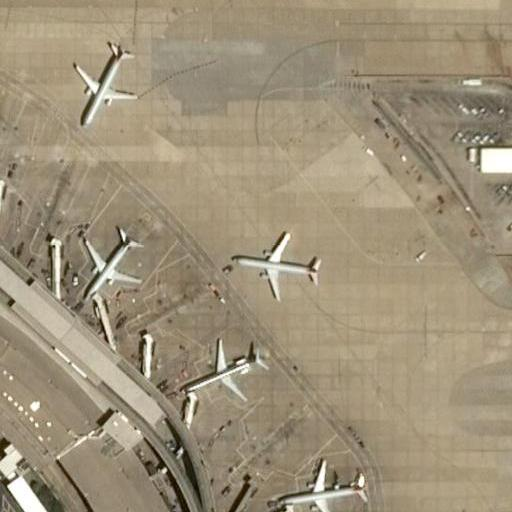Aircraft: (229, 222, 328, 300), (67, 39, 138, 132), (177, 336, 272, 401), (270, 454, 370, 512), (77, 225, 142, 297), (437, 504, 509, 512)
